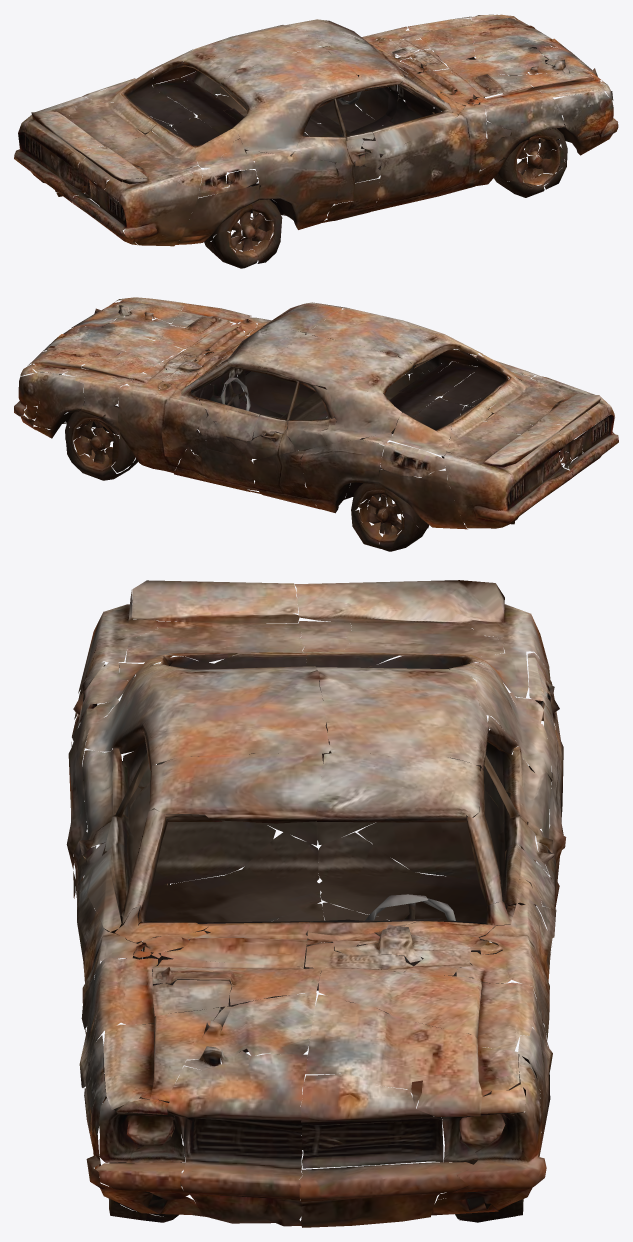
Rendered from wreck_car.glb.
3 renders of one model, top to bottom at view 1: azimuth 30°, elevation 25°; view 2: azimuth 150°, elevation 25°; view 3: azimuth 270°, elevation 25°, orthographic. The views are drawn at different scales.
Visible parts, largest first — view 1: tripo_node_d7401b98-9701-4e4b-8f5e-ae5307a7bf21; view 2: tripo_node_d7401b98-9701-4e4b-8f5e-ae5307a7bf21; view 3: tripo_node_d7401b98-9701-4e4b-8f5e-ae5307a7bf21.
Boxes of the visible parts, x1,y1,x2,y2 form: tripo_node_d7401b98-9701-4e4b-8f5e-ae5307a7bf21: (14,14,618,268); tripo_node_d7401b98-9701-4e4b-8f5e-ae5307a7bf21: (14,297,618,551); tripo_node_d7401b98-9701-4e4b-8f5e-ae5307a7bf21: (66,580,566,1227).
Bounding box in the file's own units: 1 × 0.2821 × 0.4239.
Materials: 1 (1 with a texture image).
